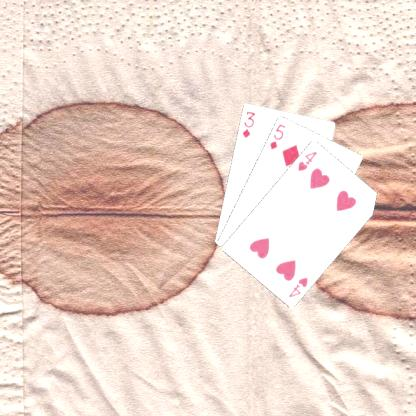3D: (239, 108, 257, 139)
4H: (295, 148, 319, 172), (286, 274, 309, 299)
5D: (266, 121, 287, 151)
